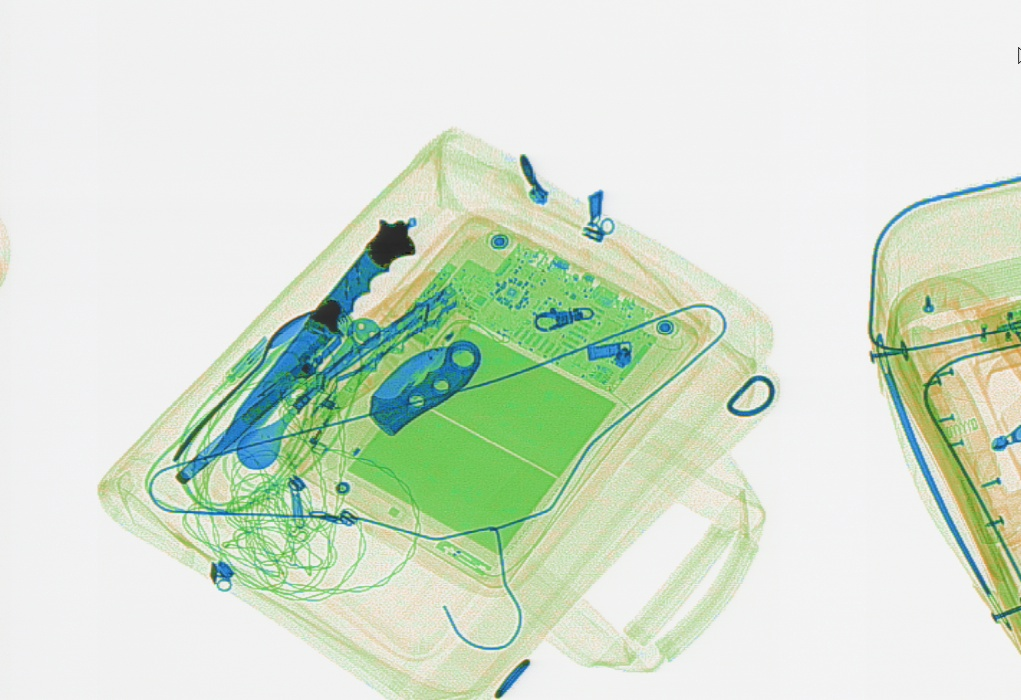knife: (211, 215, 420, 463), (365, 338, 484, 439)
